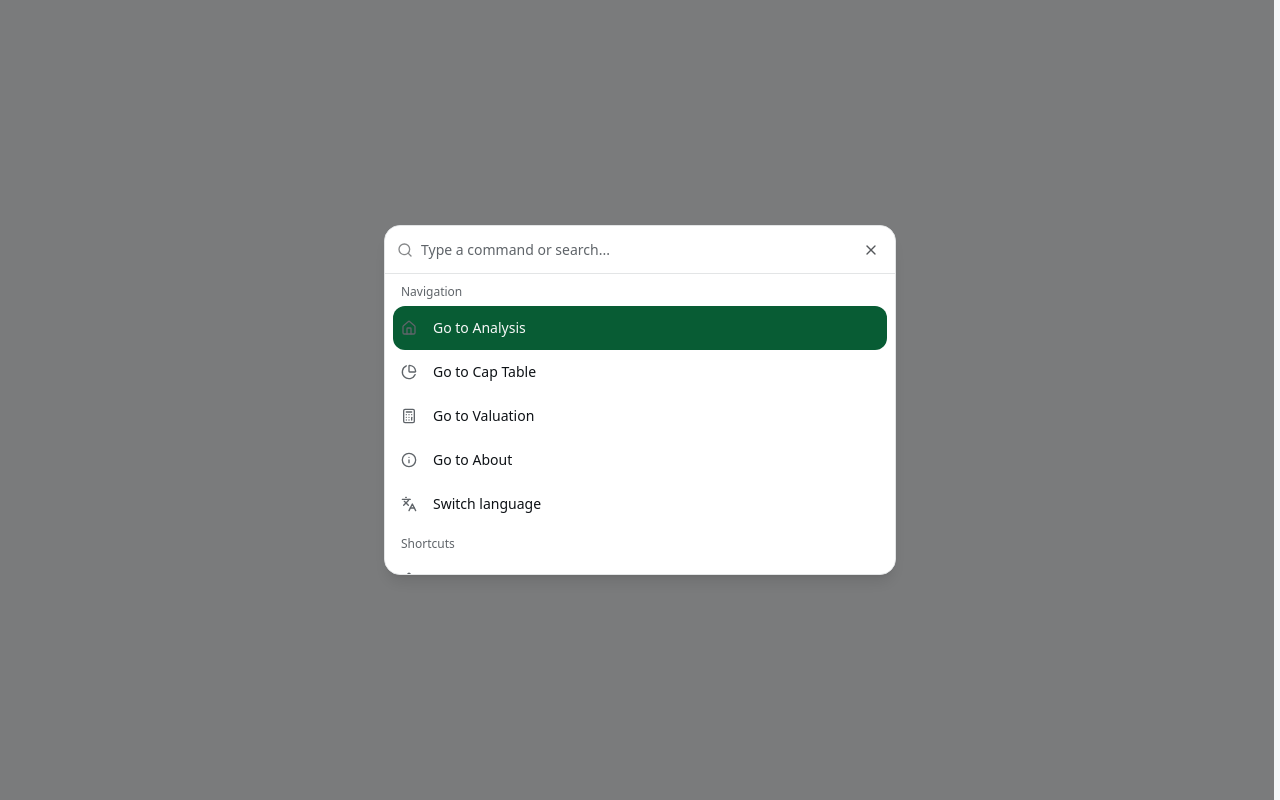
Test case: CommandPalette › search filtering › filters commands based on search query
The width and height of the screenshot is (1280, 800).
Type "dark" into the dropdown at (652, 250), box [421,226,883,274]
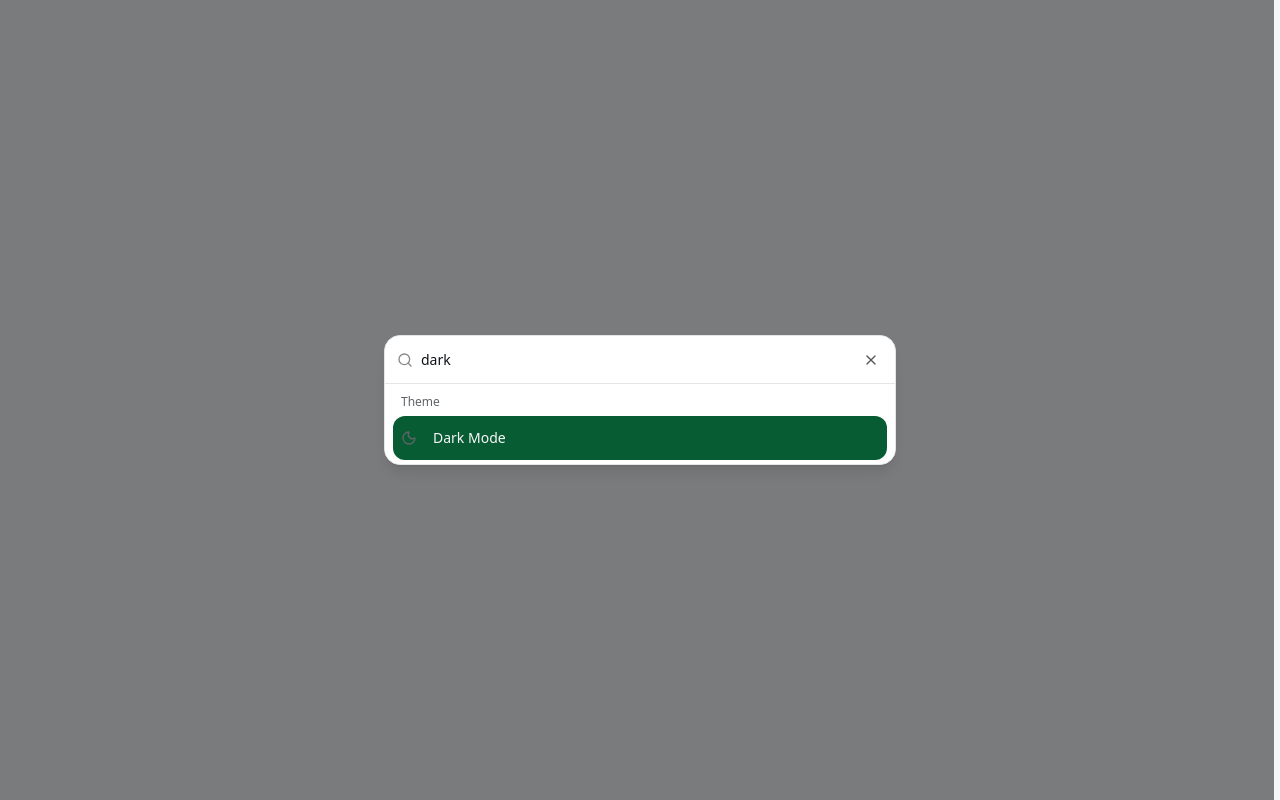
Expected: the option "Dark Mode" is shown, [393,416,887,460]
